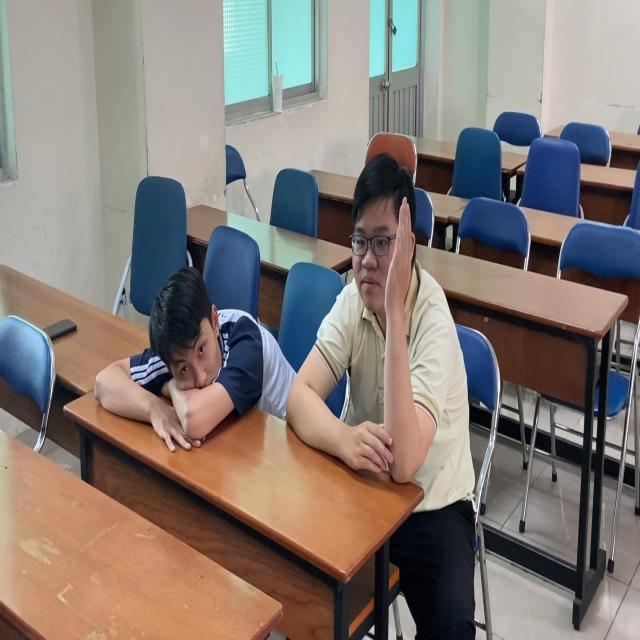raise_hand: (301, 149, 475, 505)
sleep: (86, 263, 282, 447)
